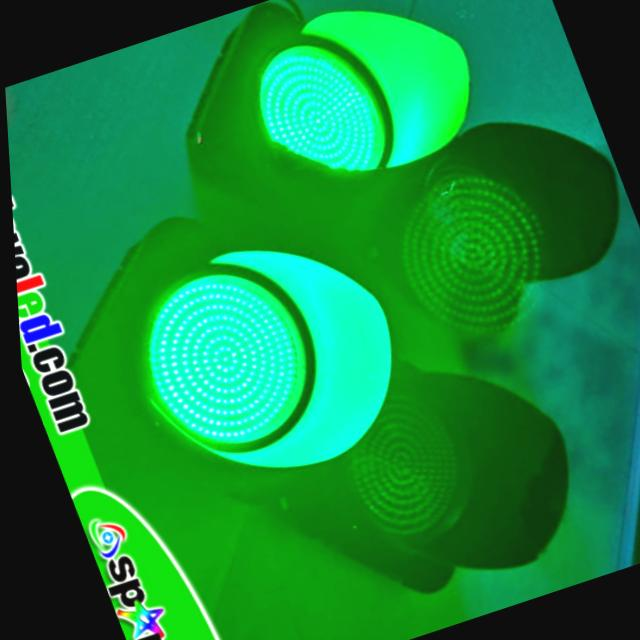Hijau: (109, 253, 329, 469), (233, 27, 400, 201)
